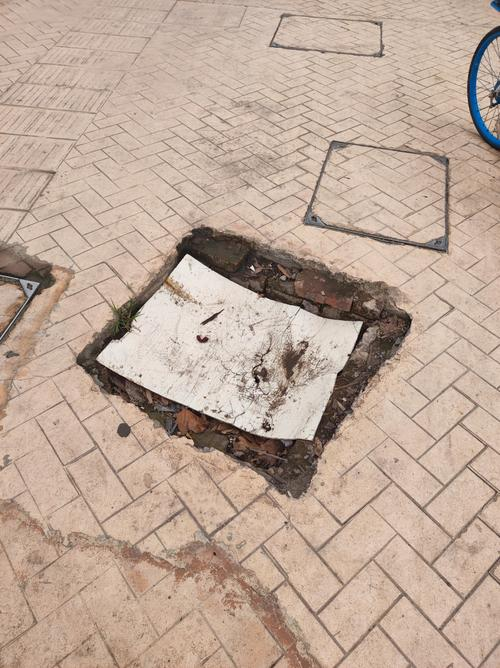broke: (67, 206, 424, 518)
